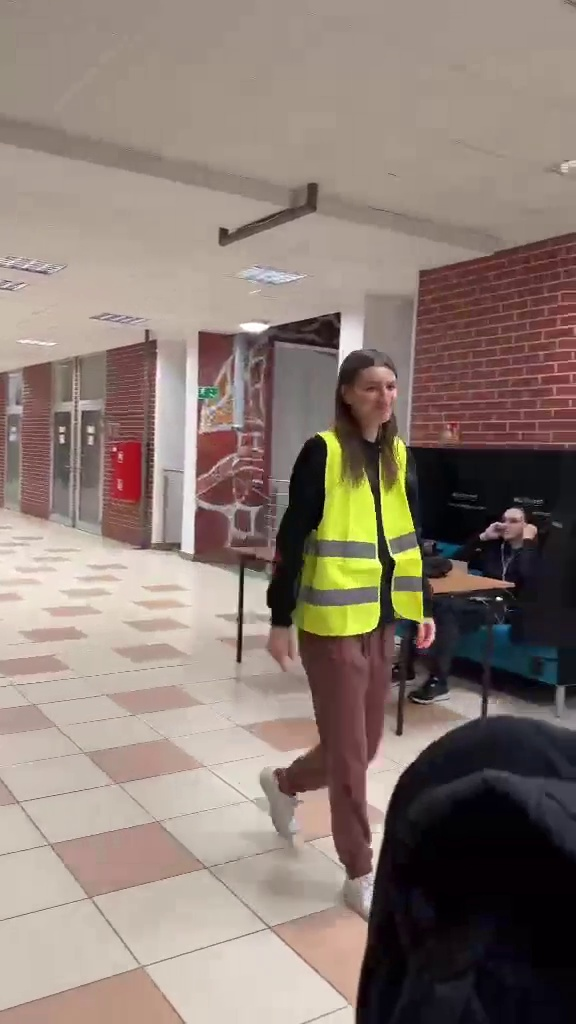no vest: (417, 471, 575, 717)
vest: (262, 343, 437, 927)
